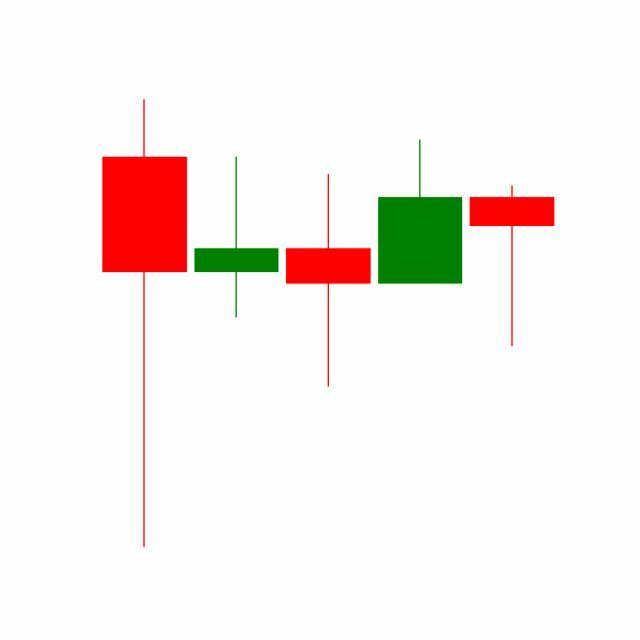Hammer: (466, 184, 559, 349)
